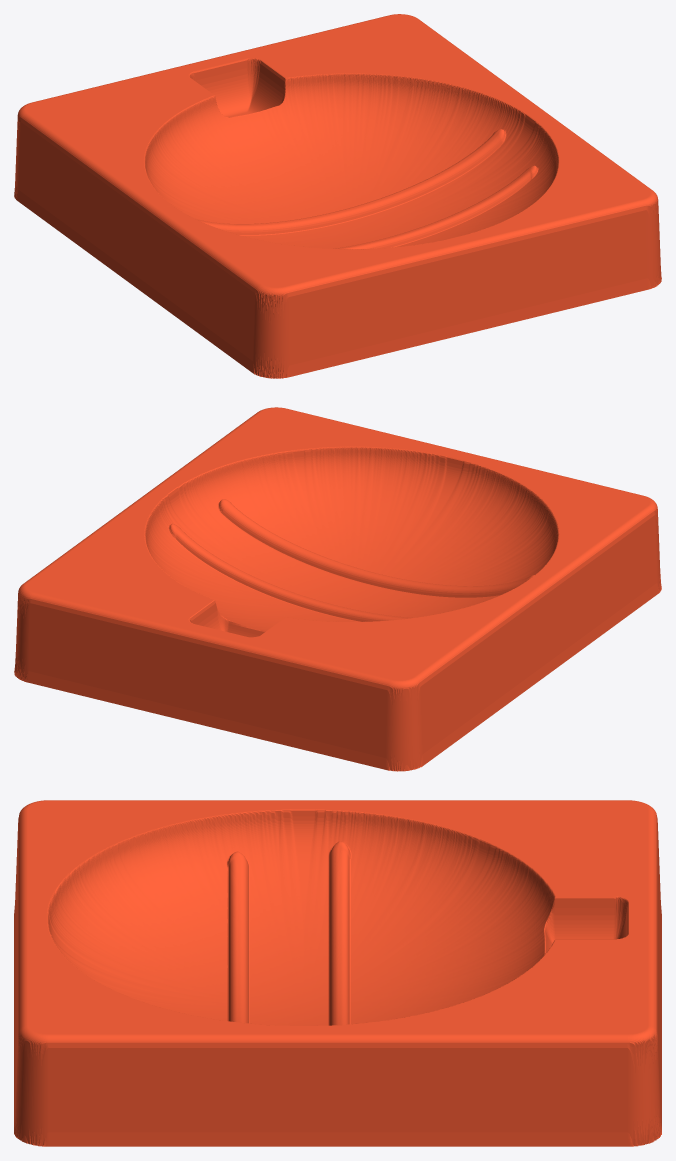
Rendered from mold.glb.
The picture shows the model from 3 angles, top to bottom: view 1: azimuth 30°, elevation 25°; view 2: azimuth 150°, elevation 25°; view 3: azimuth 270°, elevation 25°; orthographic projection. The views are drawn at different scales.
Visible parts, largest first — view 1: geometry_0; view 2: geometry_0; view 3: geometry_0.
Boxes of the visible parts, box(x1,y1,x2,y2) form: geometry_0: box(14, 14, 661, 378); geometry_0: box(14, 407, 661, 771); geometry_0: box(14, 800, 661, 1146).
Size of the model in its own units: 0.1528 by 0.031 by 0.1709.
